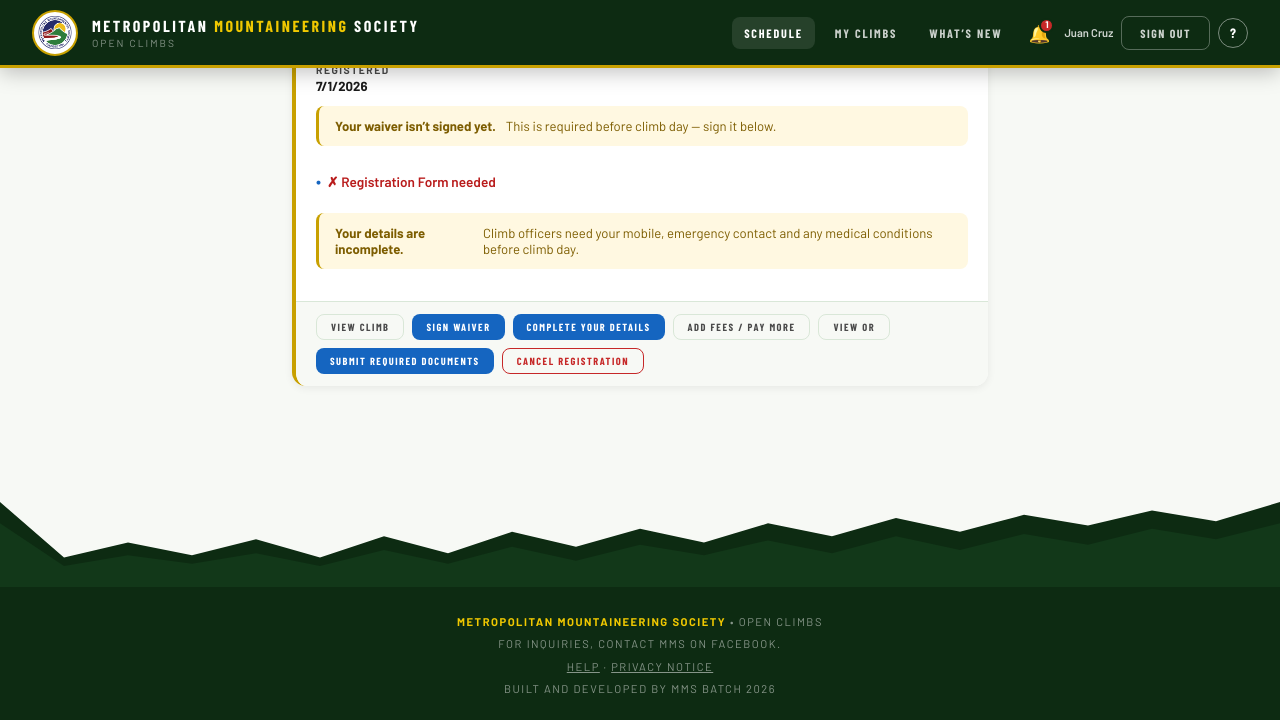
Test: MyRegistrations page › shows a Submit Required Documents button with a download link when a registration form is required and not yet uploaded
(page scrolled)
Click the button "Submit Required Documents". click: (405, 361)
box: [316,348,494,374]
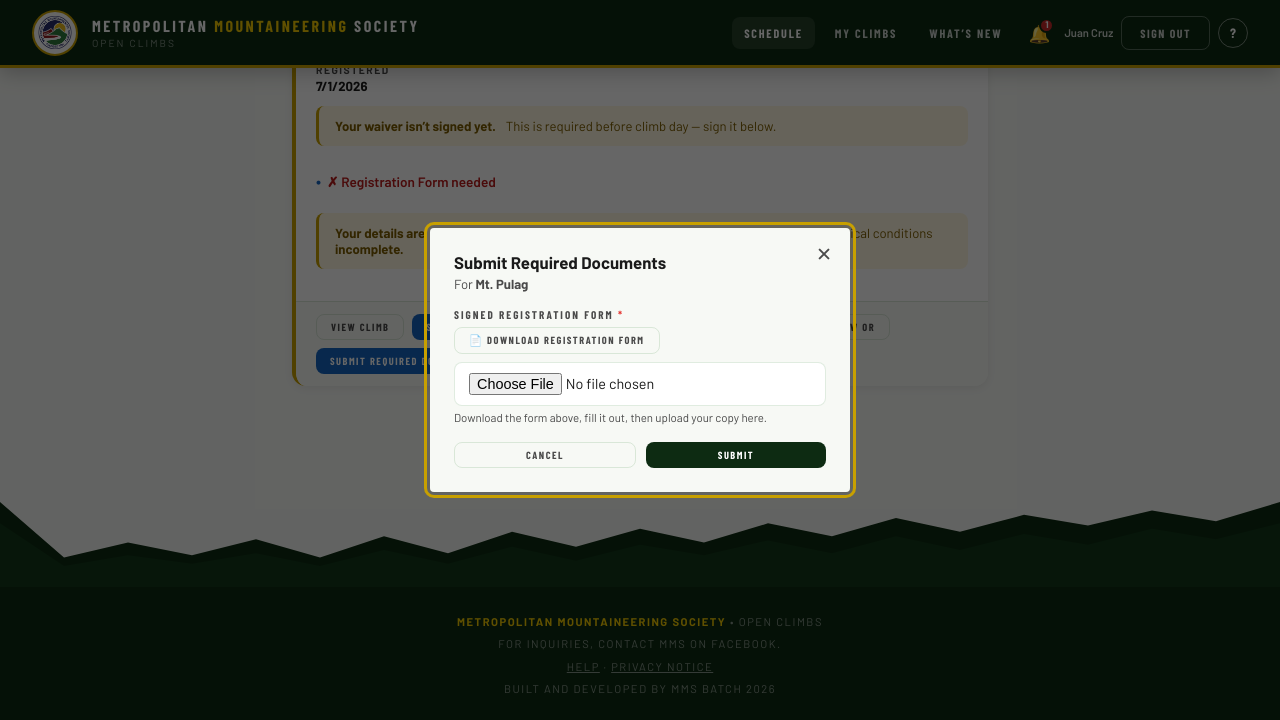
Now the link "📄 Download Registration Form" is shown, box [454,327,660,354]
